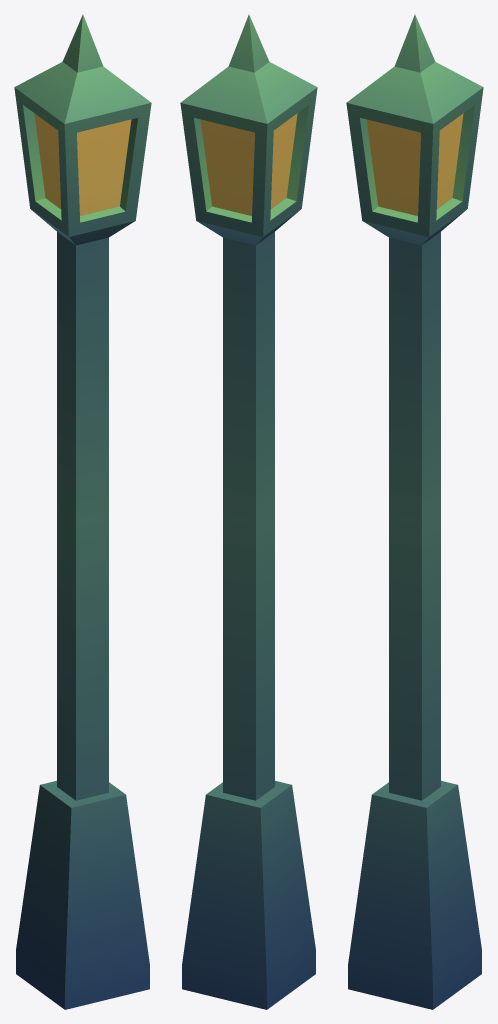
The model's file is Light_Street_01.fbx.
The picture shows the model from 3 angles, left to right: view 1: azimuth 30°, elevation 25°; view 2: azimuth 150°, elevation 25°; view 3: azimuth 330°, elevation 25°; orthographic projection.
Visible parts, largest first — view 1: Light_Street_01; view 2: Light_Street_01; view 3: Light_Street_01.
Boxes of the visible parts, box(x1,y1,x2,y2) form: Light_Street_01: box(14, 14, 151, 1009); Light_Street_01: box(180, 14, 317, 1009); Light_Street_01: box(346, 14, 483, 1009).
Bounding box in the file's own units: 51.82 × 551 × 51.82.
